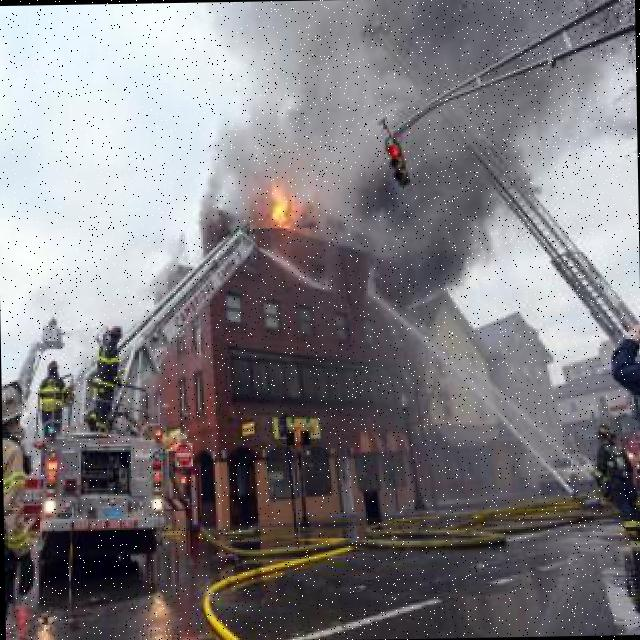fire: (248, 170, 320, 228)
